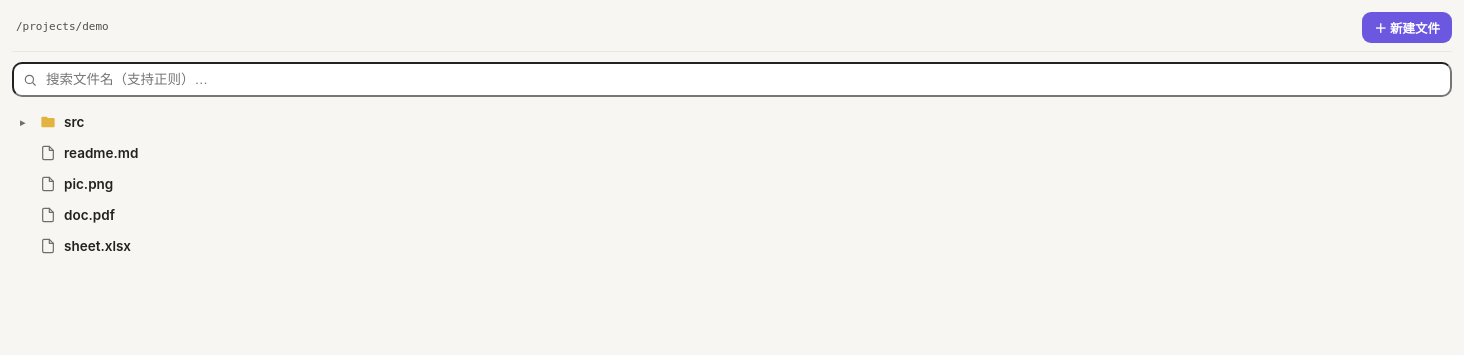
Test: FilesPanel › a create that hits an existing file surfaces the error (no silent truncation)
Expected: the text "src" is shown, [64,114,84,130]
Step 1. Click the button "＋ 新建文件" → (1407, 28), box [1362,12,1452,43]
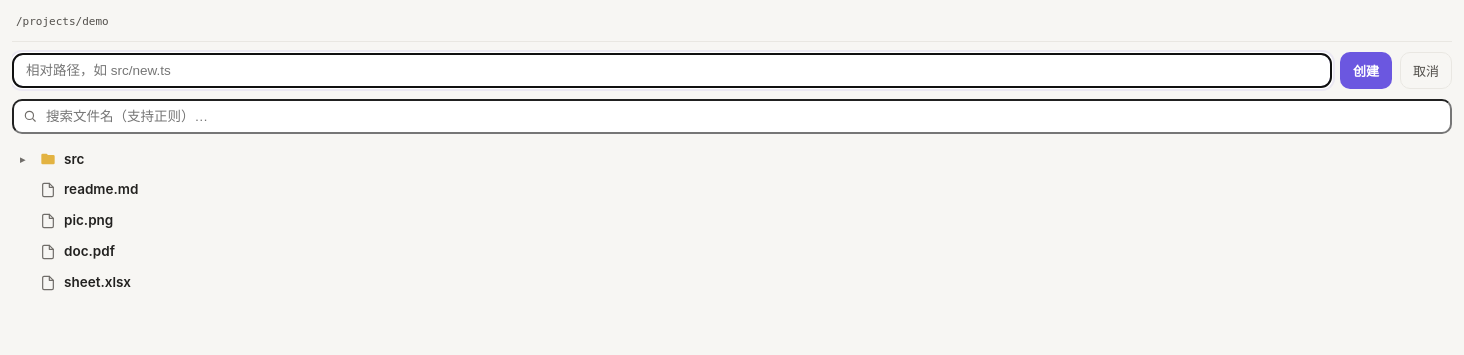
Step 2. Type "readme.md" into the field with placeholder "相对路径，如 src/new.ts" → (672, 70), box [12,52,1332,88]
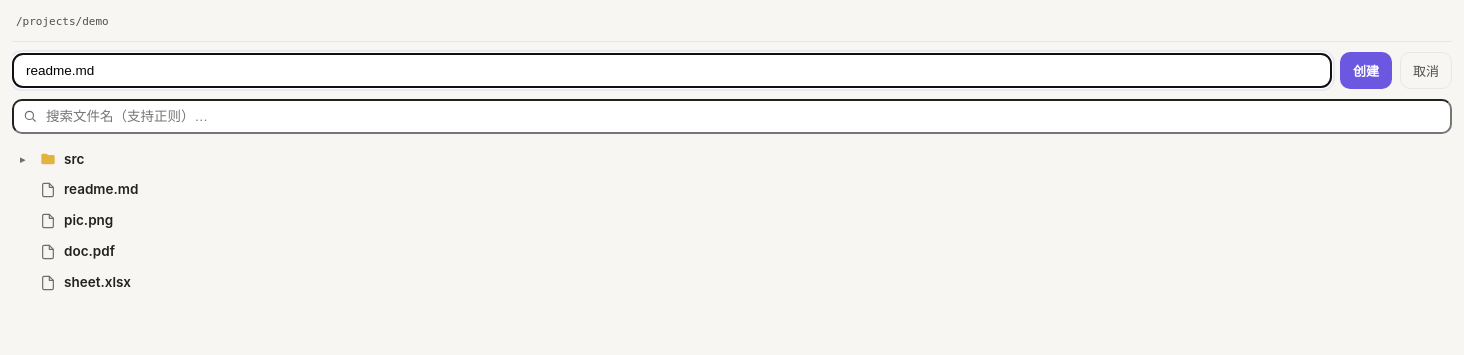
Step 3. Click the button "创建" → (1366, 70), box [1340,52,1392,88]
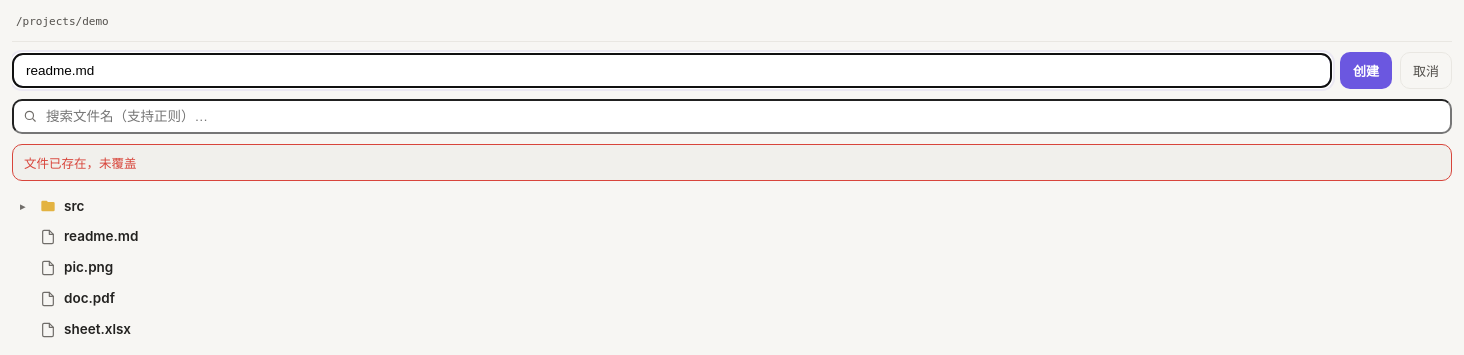
Now the text "文件已存在，未覆盖" is shown, box [12,144,1452,180]
